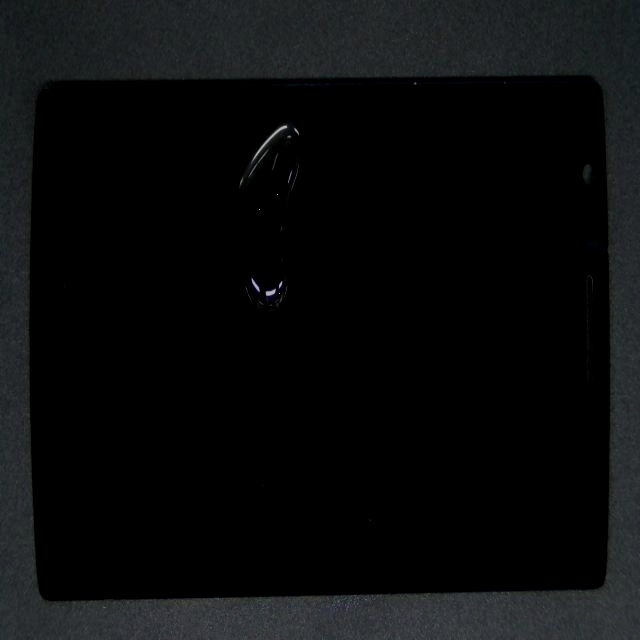oil: (152, 96, 448, 220)
